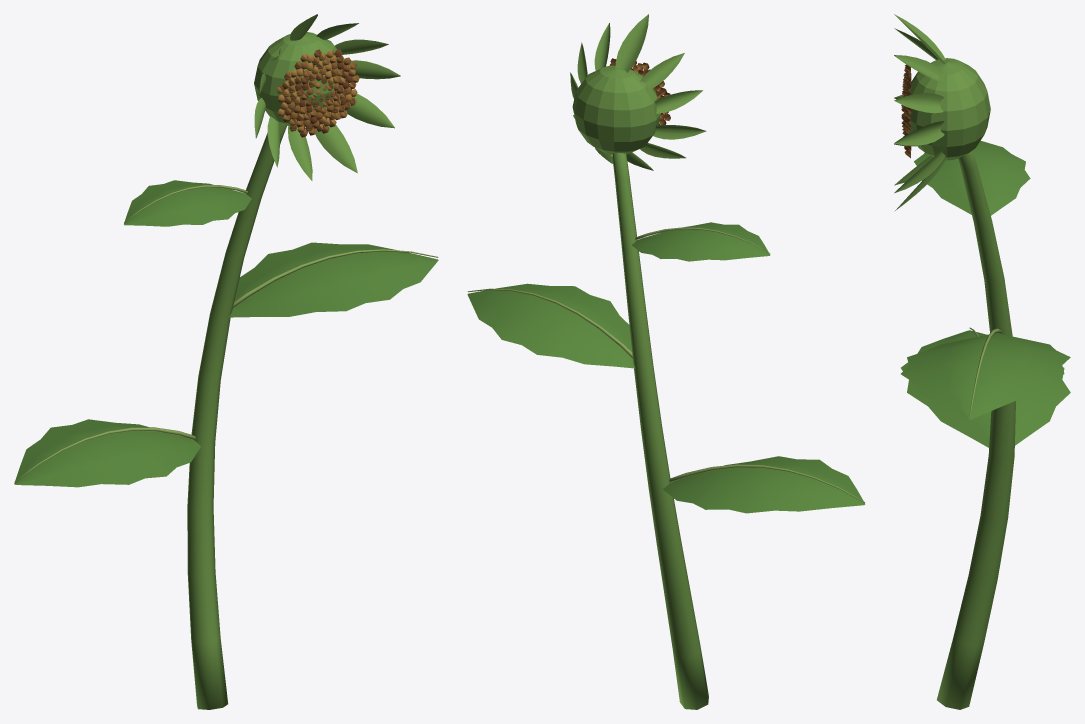
The model's file is sunflower-test-bud-0.glb.
3 views of the same model, side by side, from view 1: azimuth 30°, elevation 25°; view 2: azimuth 150°, elevation 25°; view 3: azimuth 270°, elevation 25° (orthographic). The views are drawn at different scales.
Visible parts, largest first — view 1: Curved tapered stem; view 2: Curved tapered stem; view 3: Curved tapered stem.
Part boxes in pixels (box(x1,y1,x2,y2)): Curved tapered stem: box(14, 14, 438, 709); Curved tapered stem: box(467, 14, 865, 709); Curved tapered stem: box(894, 14, 1070, 709).
Size of the model in its own units: 0.2702 by 0.4246 by 0.0931.
